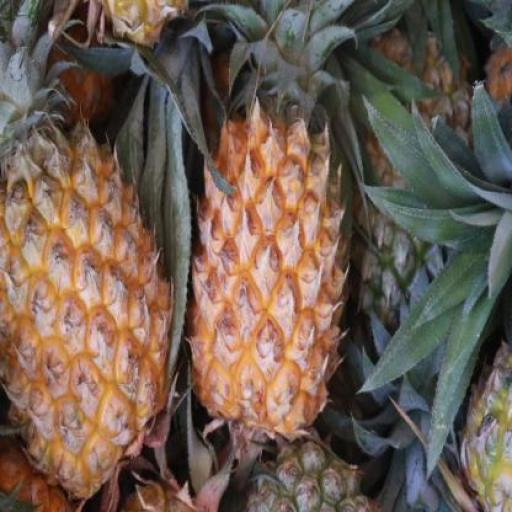Pineapple - v8 v1: (0, 126, 171, 504), (191, 110, 346, 452)
